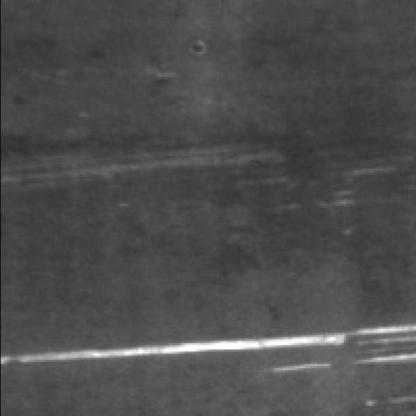scratches: (2, 324, 416, 374)
